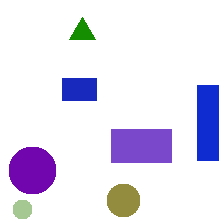circle: (9, 147, 55, 193), (107, 184, 139, 216), (13, 200, 31, 218)
rectangle: (111, 129, 171, 162), (197, 85, 218, 160), (62, 78, 96, 100)
triangle: (69, 17, 95, 39)
